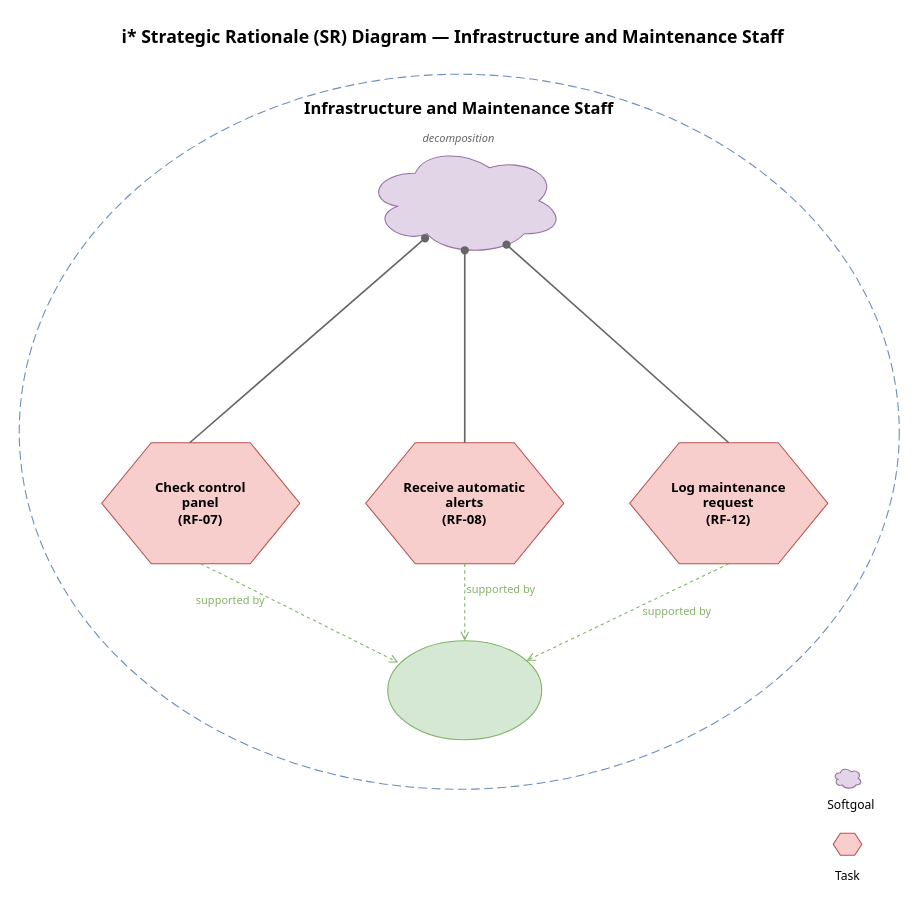
Some shapes in this 919 by 901 pixel diagram are drawn without their labels. The shapes that lost their labels are listed below. From the top down, each one's centre as x and y in pixels, then its label:
(464,200): Reduce fault response time
(464,690): SIGA
